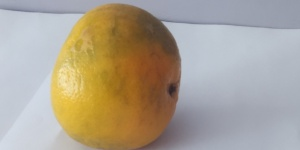BAD: (51, 3, 181, 150)
